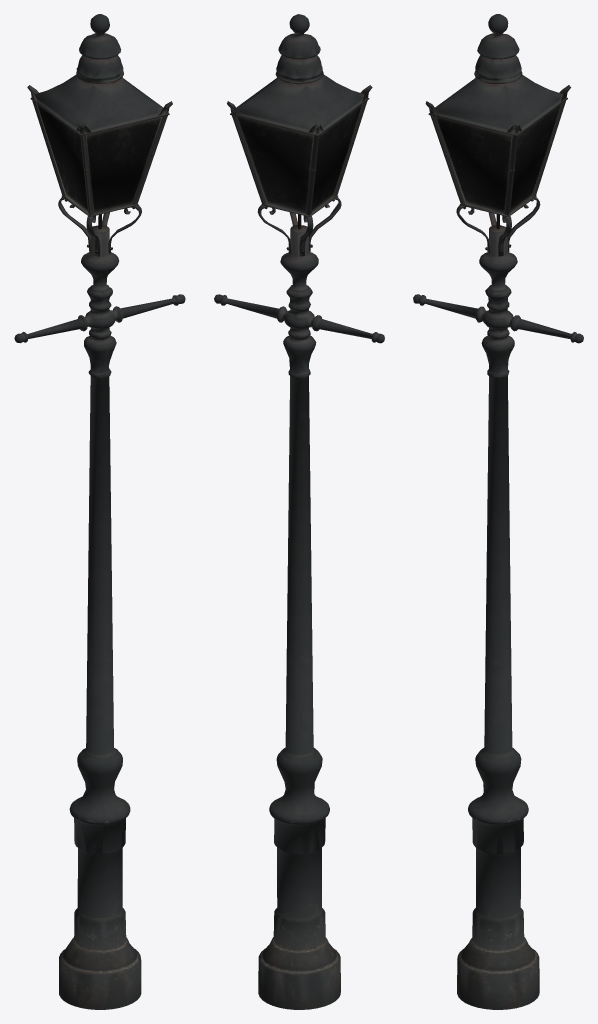
Rendered from ph_street_lamp_01.glb.
3 renders of one model, left to right at view 1: azimuth 30°, elevation 25°; view 2: azimuth 150°, elevation 25°; view 3: azimuth 330°, elevation 25°, orthographic.
Parts seen in each view (by area): view 1: street_lamp_01; view 2: street_lamp_01; view 3: street_lamp_01.
Part boxes in pixels (left/top/right/bottom): street_lamp_01: left=14, top=14, right=185, bottom=1009; street_lamp_01: left=214, top=14, right=384, bottom=1009; street_lamp_01: left=413, top=14, right=583, bottom=1009.
Bounding box in the file's own units: 0.7035 × 3.87 × 0.3856.
2 materials, 2 textured.
